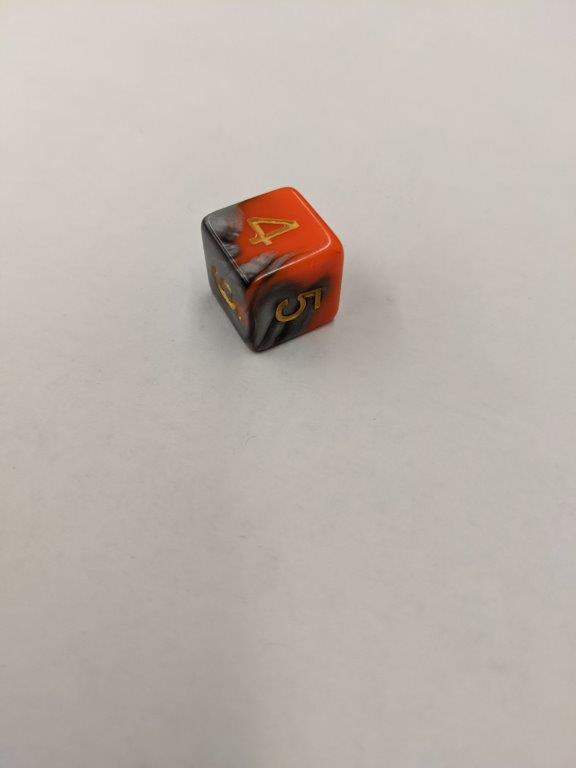d6-4: (199, 186, 347, 354)
